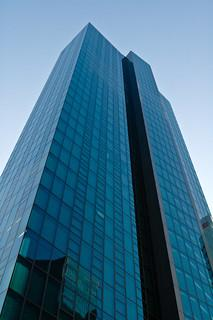building: (3, 22, 213, 320)
